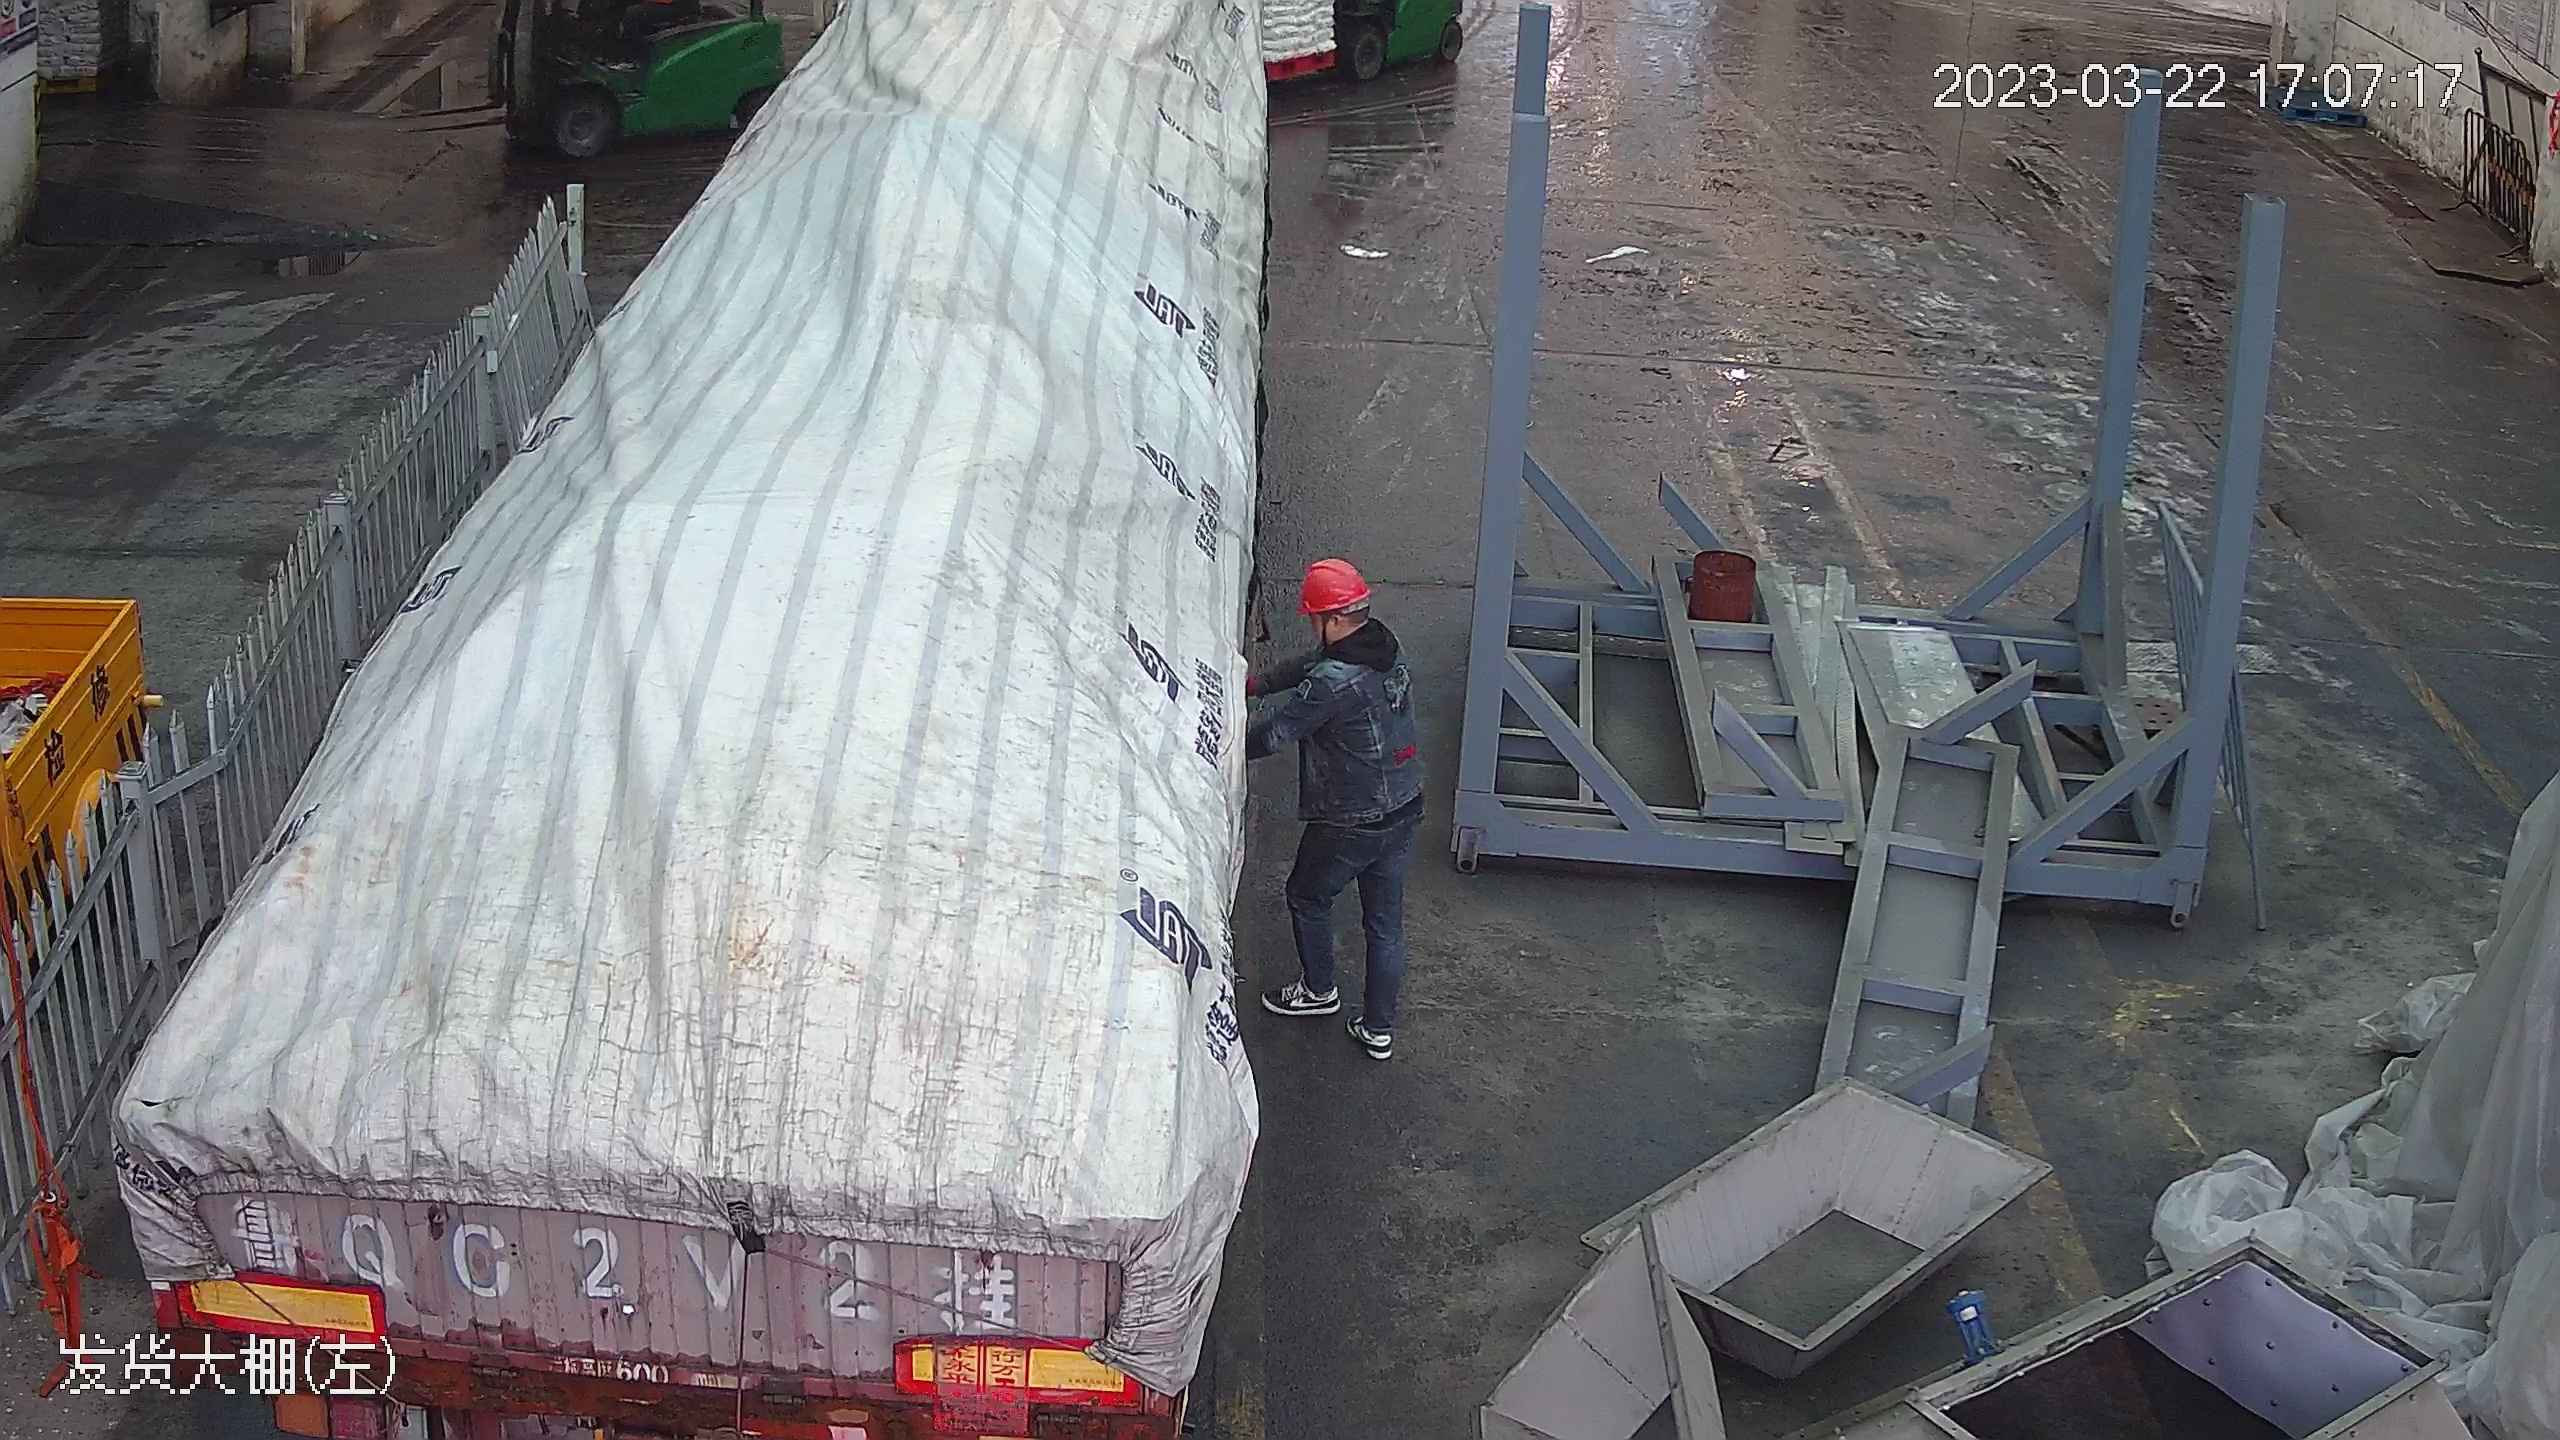head: (1272, 556, 1408, 710)
helmet: (1296, 557, 1374, 612)
people: (1246, 556, 1424, 1062)
truck: (34, 3, 1283, 1440)
